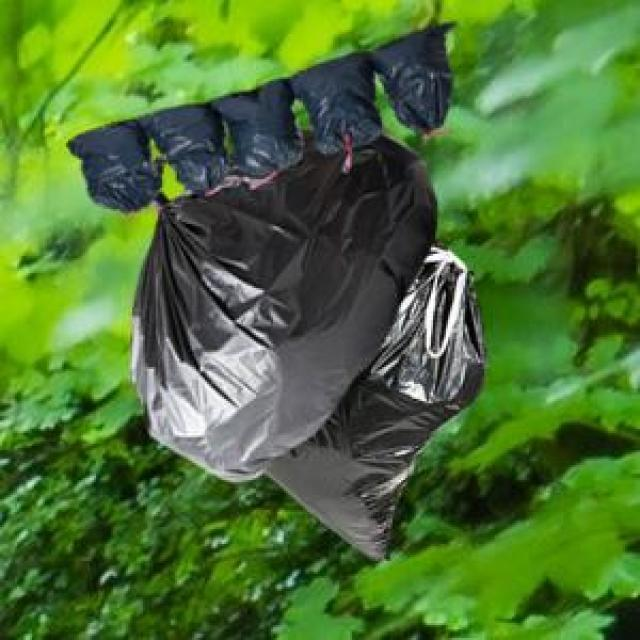waste: (69, 26, 482, 557)
